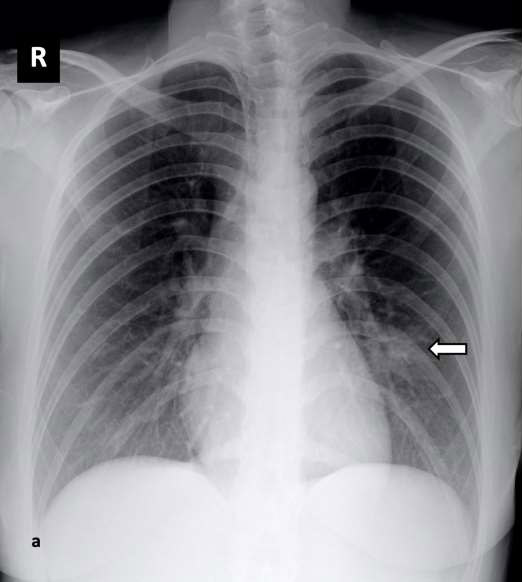Mildw: (34, 59, 245, 486), (303, 58, 472, 496)
